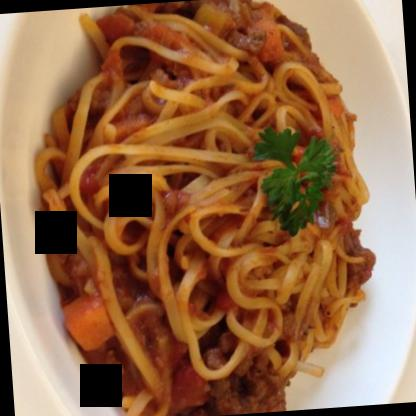pasta: (30, 0, 376, 415)
